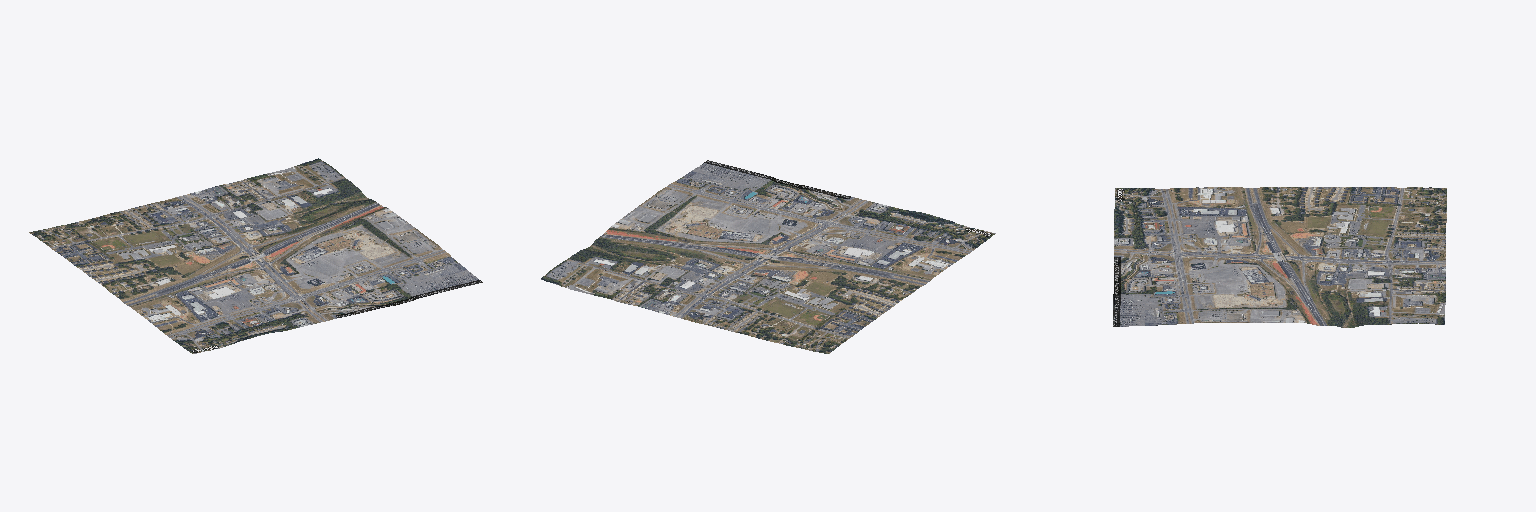
3 renders of one model, left to right at view 1: azimuth 30°, elevation 25°; view 2: azimuth 150°, elevation 25°; view 3: azimuth 270°, elevation 25°, orthographic.
Parts seen in each view (by area): view 1: Mesh18 Oob_Terrain17 Model, Mesh1 Oob_Terrain Model, Mesh16 Oob_Terrain15 Model, Mesh17 Oob_Terrain16 Model, Mesh8 Oob_Terrain7 Model, Mesh23 Oob_Terrain22 Model, Mesh11 Oob_Terrain10 Model, Mesh14 Oob_Terrain13 Model, Mesh6 Oob_Terrain5 Model, Mesh9 Oob_Terrain8 Model, Mesh3 Oob_Terrain2 Model, Mesh2 Oob_Terrain1 Model (+13 smaller); view 2: Mesh6 Oob_Terrain5 Model, Mesh2 Oob_Terrain1 Model, Mesh19 Oob_Terrain18 Model, Mesh5 Oob_Terrain4 Model, Mesh13 Oob_Terrain12 Model, Mesh22 Oob_Terrain21 Model, Mesh20 Oob_Terrain19 Model, Mesh24 Oob_Terrain23 Model, Mesh12 Oob_Terrain11 Model, Mesh10 Oob_Terrain9 Model, Mesh25 Oob_Terrain24 Model, Mesh9 Oob_Terrain8 Model (+13 smaller); view 3: Mesh12 Oob_Terrain11 Model, Mesh15 Oob_Terrain14 Model, Mesh4 Oob_Terrain3 Model, Mesh22 Oob_Terrain21 Model, Mesh25 Oob_Terrain24 Model, Mesh7 Oob_Terrain6 Model, Mesh23 Oob_Terrain22 Model, Mesh19 Oob_Terrain18 Model, Mesh20 Oob_Terrain19 Model, Mesh10 Oob_Terrain9 Model, Mesh11 Oob_Terrain10 Model, Mesh24 Oob_Terrain23 Model (+13 smaller).
Part boxes in pixels (x1,y1,x2,y2): Mesh18 Oob_Terrain17 Model: (393,255,482,296); Mesh1 Oob_Terrain Model: (360,230,449,270); Mesh16 Oob_Terrain15 Model: (334,271,424,311); Mesh17 Oob_Terrain16 Model: (302,246,391,286); Mesh8 Oob_Terrain7 Model: (244,261,333,301); Mesh23 Oob_Terrain22 Model: (186,276,275,315); Mesh11 Oob_Terrain10 Model: (128,291,217,329); Mesh14 Oob_Terrain13 Model: (95,266,184,305); Mesh6 Oob_Terrain5 Model: (261,158,350,198); Mesh9 Oob_Terrain8 Model: (294,182,382,221); Mesh3 Oob_Terrain2 Model: (236,199,325,237); Mesh2 Oob_Terrain1 Model: (327,207,417,245); Mesh6 Oob_Terrain5 Model: (541,255,630,295); Mesh2 Oob_Terrain1 Model: (607,205,696,245); Mesh19 Oob_Terrain18 Model: (848,204,937,242); Mesh5 Oob_Terrain4 Model: (598,271,687,311); Mesh13 Oob_Terrain12 Model: (666,222,755,261); Mesh22 Oob_Terrain21 Model: (747,276,836,315); Mesh20 Oob_Terrain19 Model: (713,302,802,341); Mesh24 Oob_Terrain23 Model: (905,217,995,257); Mesh12 Oob_Terrain11 Model: (771,316,861,353); Mesh10 Oob_Terrain9 Model: (656,287,745,326); Mesh25 Oob_Terrain24 Model: (790,190,879,228); Mesh9 Oob_Terrain8 Model: (574,231,663,270); Mesh12 Oob_Terrain11 Model: (1380,187,1446,217); Mesh15 Oob_Terrain14 Model: (1313,243,1379,271); Mesh4 Oob_Terrain3 Model: (1247,214,1313,242); Mesh22 Oob_Terrain21 Model: (1313,214,1379,243); Mesh25 Oob_Terrain24 Model: (1114,243,1180,272); Mesh7 Oob_Terrain6 Model: (1314,187,1379,215); Mesh23 Oob_Terrain22 Model: (1181,215,1246,243); Mesh19 Oob_Terrain18 Model: (1114,214,1180,244); Mesh20 Oob_Terrain19 Model: (1380,216,1446,244); Mesh10 Oob_Terrain9 Model: (1379,244,1445,272); Mesh11 Oob_Terrain10 Model: (1181,187,1247,215); Mesh24 Oob_Terrain23 Model: (1114,188,1180,216).
Bounding box in the file's own units: 1283 × 32.22 × 1276.
Materials: 1 (1 with a texture image).